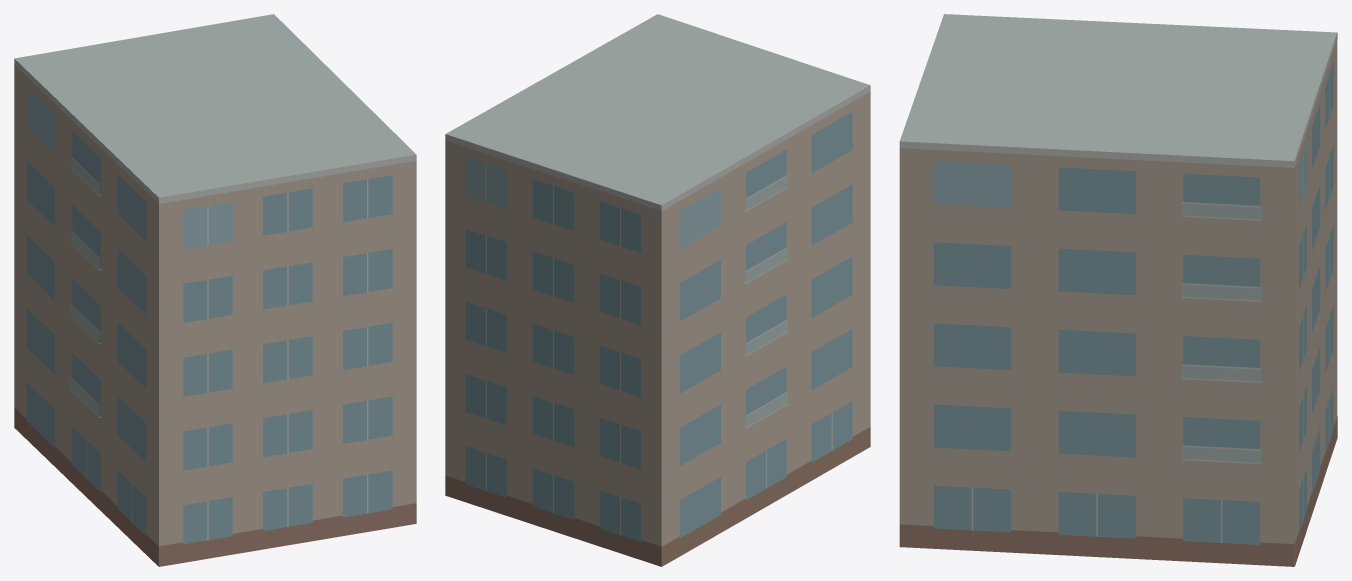
Rendered from survey-upis-32762590.glb.
The picture shows the model from 3 angles, left to right: view 1: azimuth 30°, elevation 25°; view 2: azimuth 150°, elevation 25°; view 3: azimuth 270°, elevation 25°; orthographic projection. The views are drawn at different scales.
Visible parts, largest first — view 1: survey-upis-32762590.tmp; view 2: survey-upis-32762590.tmp; view 3: survey-upis-32762590.tmp.
Part boxes in pixels (x1,y1,x2,y2): survey-upis-32762590.tmp: (14,14,416,566); survey-upis-32762590.tmp: (445,14,870,566); survey-upis-32762590.tmp: (899,14,1337,566).
Bounding box in the file's own units: 11.42 × 14.65 × 14.34.
